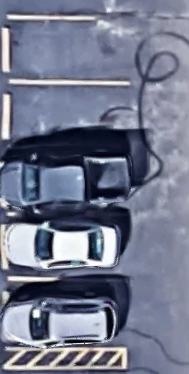Occupied: (4, 279, 132, 349), (4, 149, 131, 216), (4, 214, 131, 280)
Vacant: (5, 81, 131, 148), (6, 16, 131, 83)
